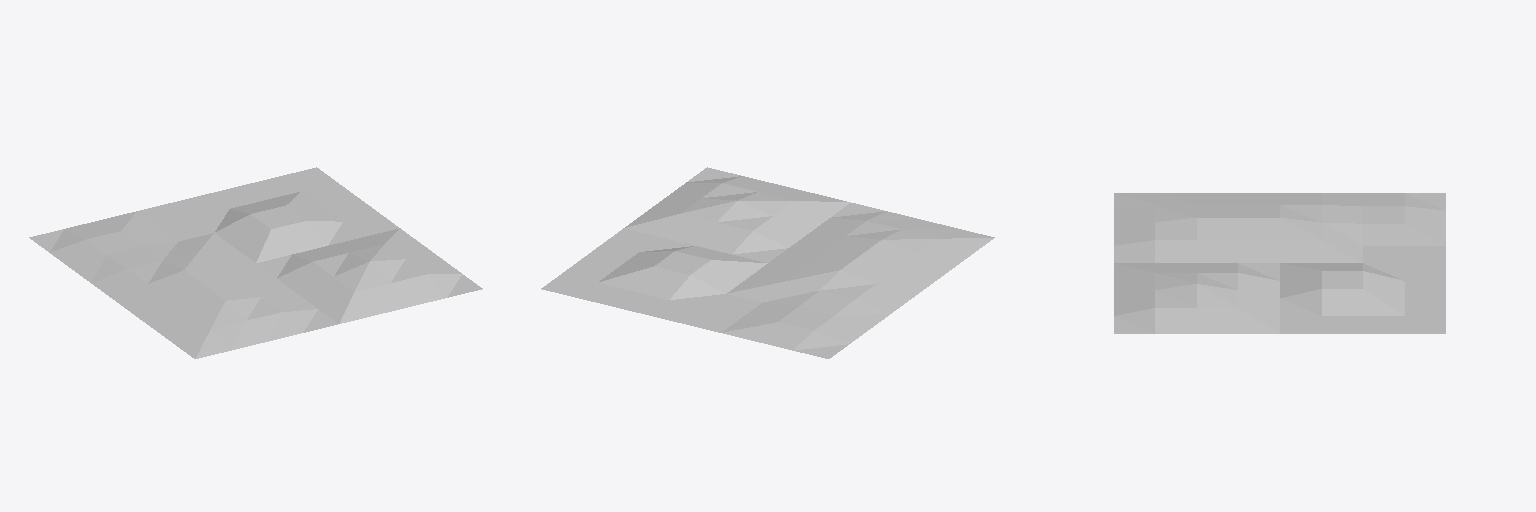
Rendered from ground-plane-20x20.obj.
The picture shows the model from 3 angles: view 1: azimuth 30°, elevation 25°; view 2: azimuth 150°, elevation 25°; view 3: azimuth 270°, elevation 25°; orthographic projection.
Parts seen in each view (by area): view 1: Cube; view 2: Cube; view 3: Cube.
Boxes of the visible parts, <box> form: Cube: <box>29,167,482,358</box>; Cube: <box>541,167,994,358</box>; Cube: <box>1114,193,1445,333</box>.
Bounding box in the file's own units: 20 × 0.9767 × 20.